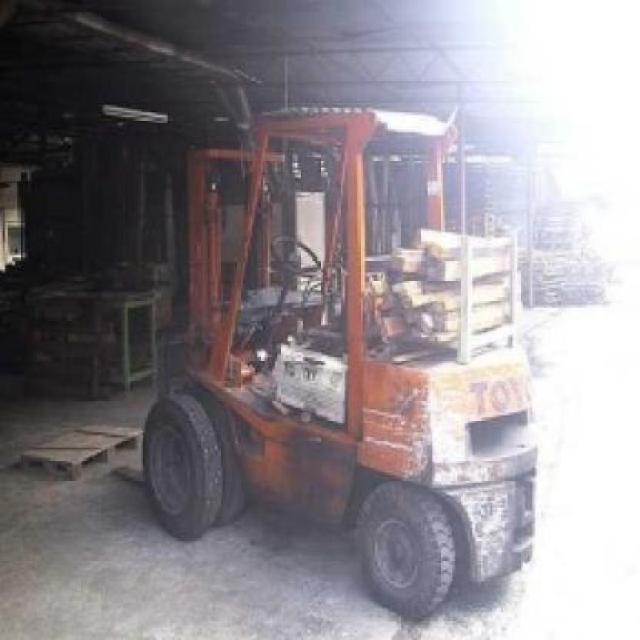forklift: (140, 93, 543, 618)
